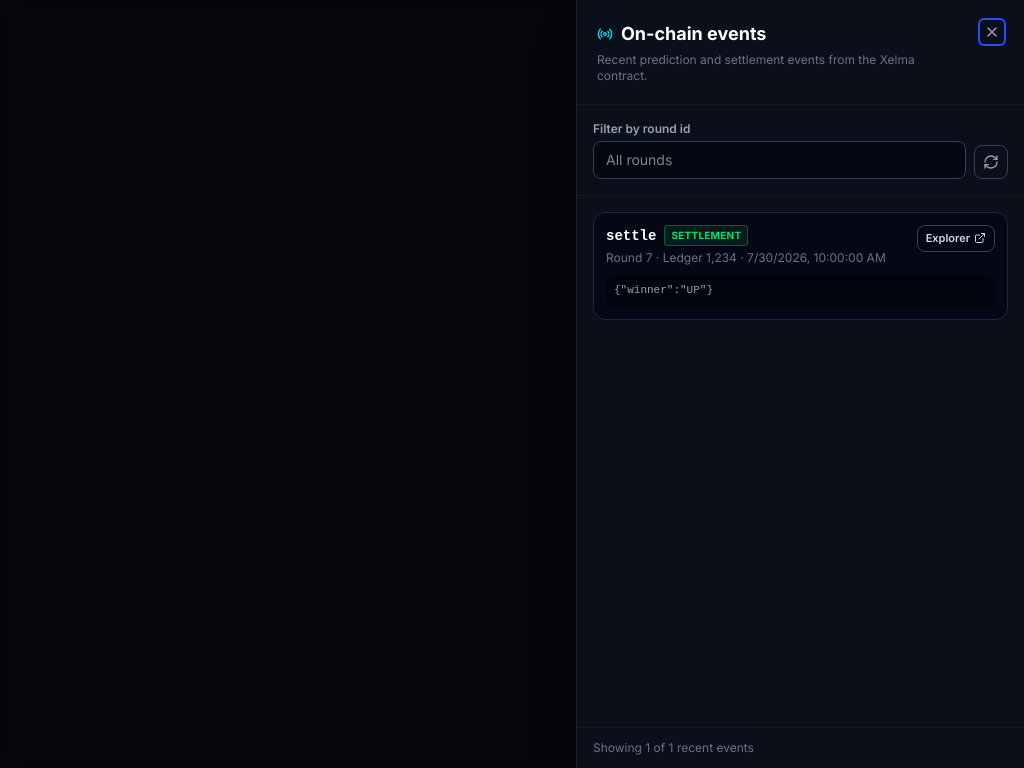
Test case: EventLogDrawer › shows a distinct empty state when the round filter matches nothing
Check: the text "settle" is shown, box [606,226,656,246]
Type "999" into the field labelled "Filter by round id" at [780, 160], box [593,141,966,179]
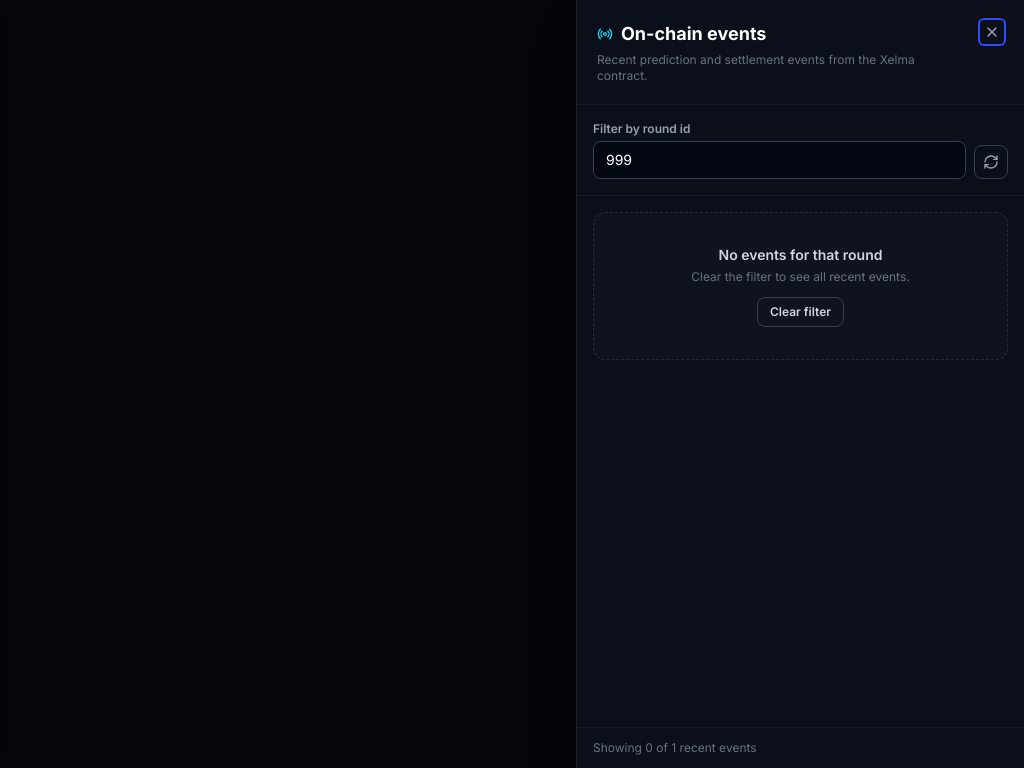
Check: the text "No events for that round" is shown, box [718,246,882,263]
Check: the button "Clear filter" is shown, box [757,297,844,327]
